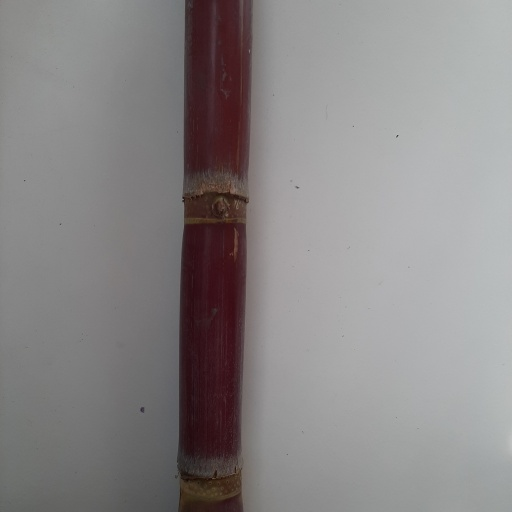Bud: (212, 195, 231, 219)
